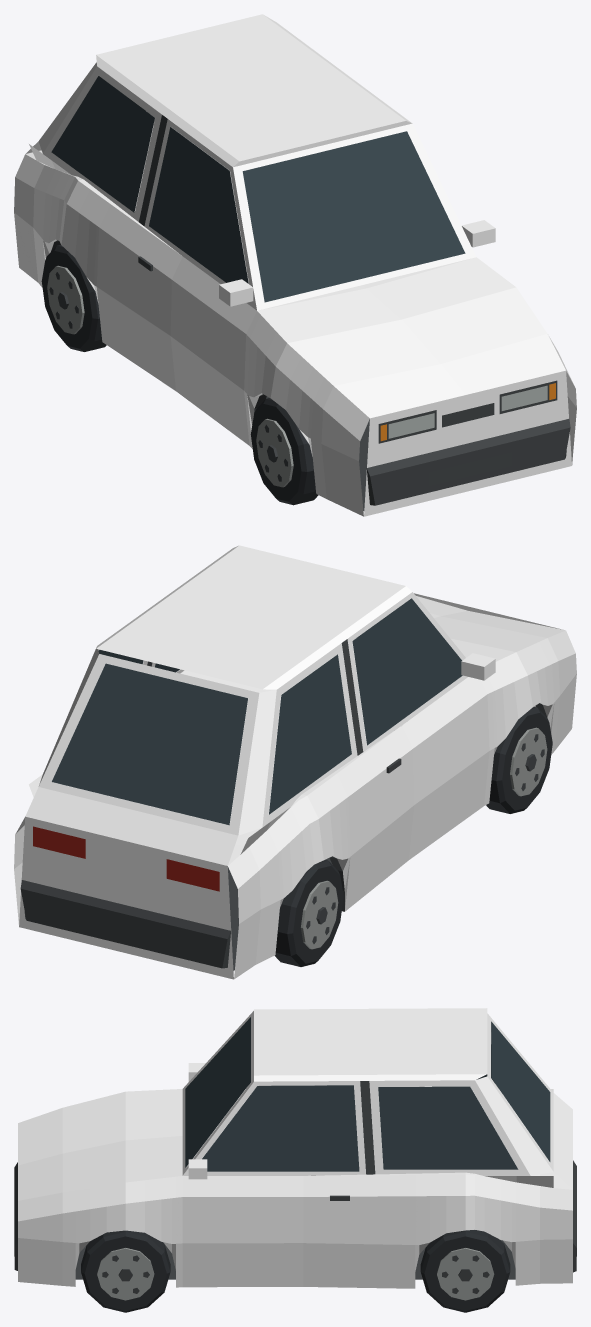
The model's file is kanaya_yozora.glb.
The picture shows the model from 3 angles, top to bottom: view 1: azimuth 30°, elevation 25°; view 2: azimuth 150°, elevation 25°; view 3: azimuth 270°, elevation 25°; orthographic projection. The views are drawn at different scales.
Visible parts, largest first — view 1: kanaya_yozora; view 2: kanaya_yozora; view 3: kanaya_yozora.
Part boxes in pixels (box(x1,y1,x2,y2)): kanaya_yozora: box(14, 14, 576, 516); kanaya_yozora: box(14, 545, 576, 979); kanaya_yozora: box(14, 1008, 576, 1312).
Bounding box in the file's own units: 1.62 × 1.6 × 3.66.
Materials: 8 (1 with a texture image).
